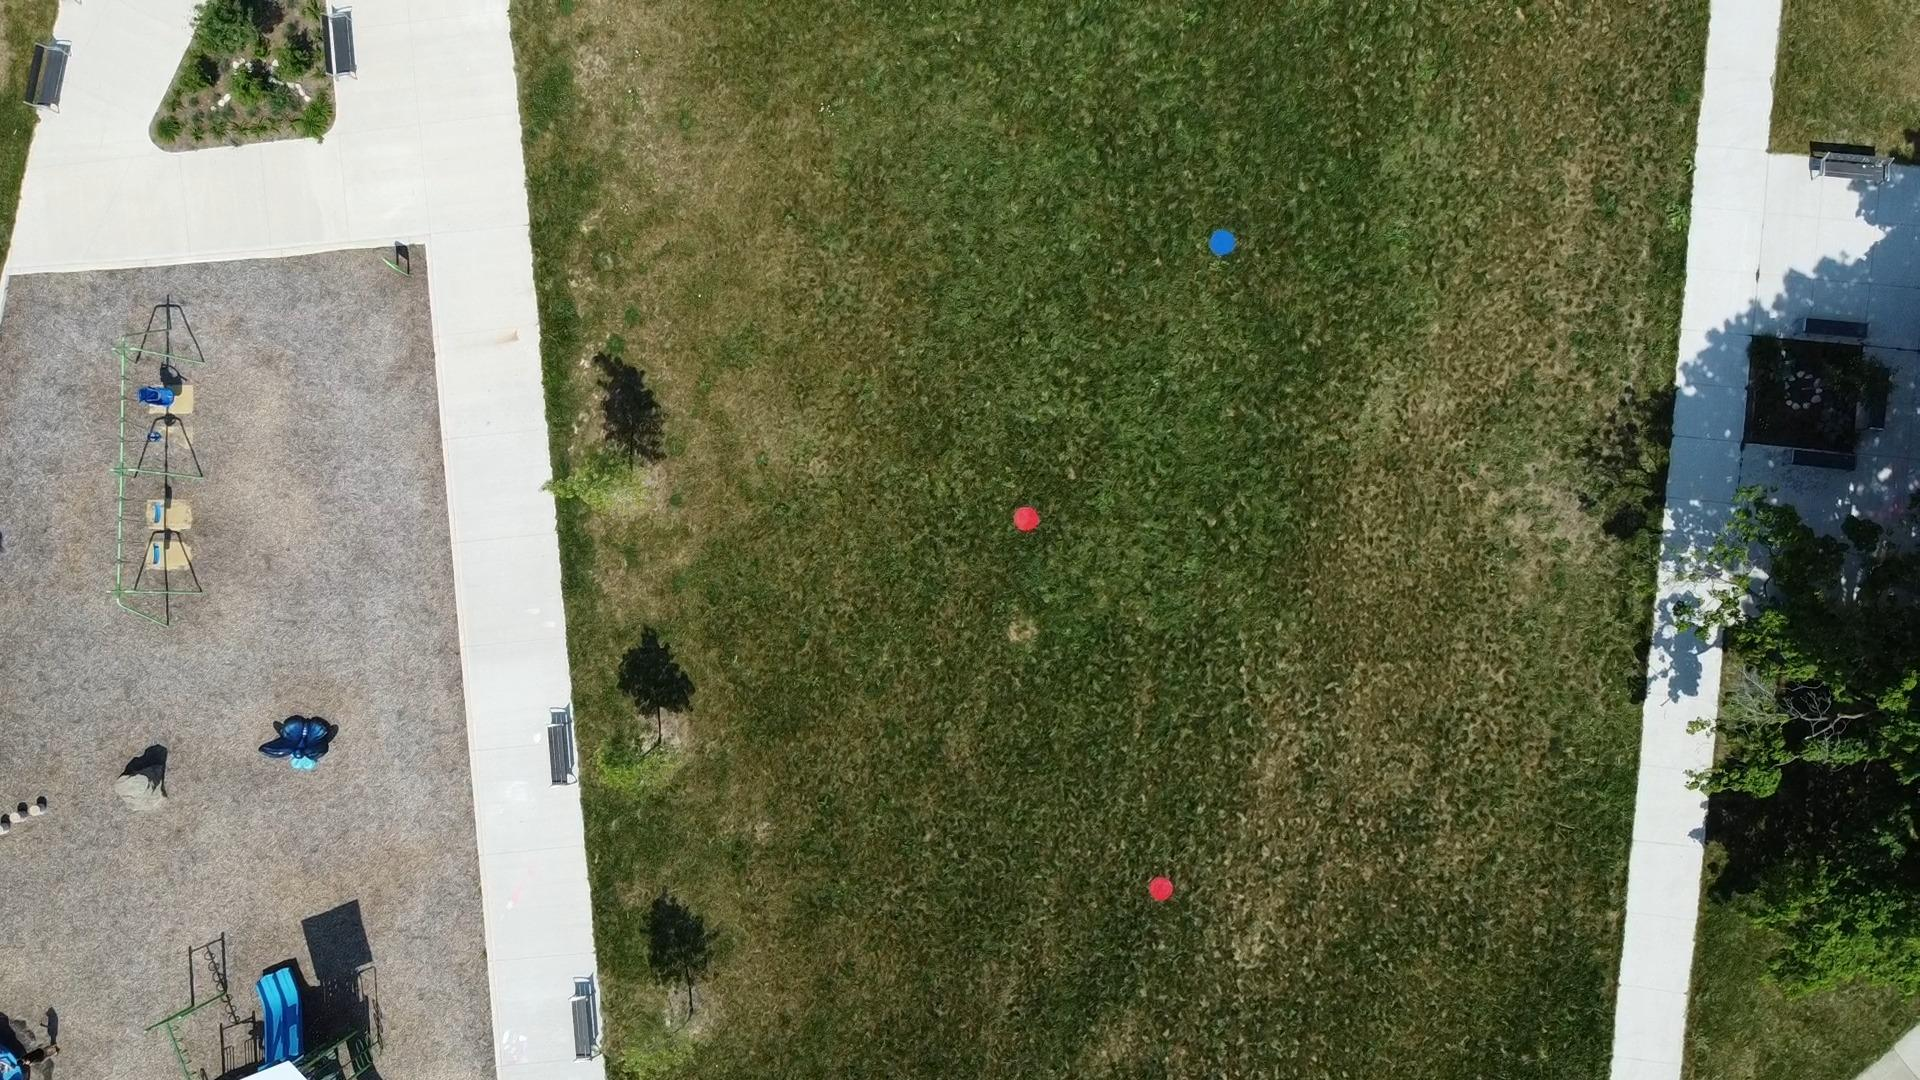Blue: (1209, 228, 1237, 256)
Red: (1013, 505, 1040, 533), (1147, 876, 1174, 902)
